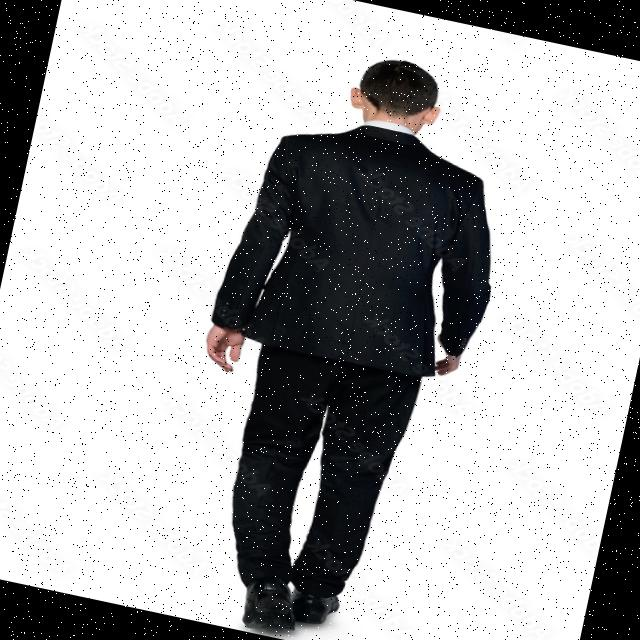Person: (149, 33, 532, 640)
